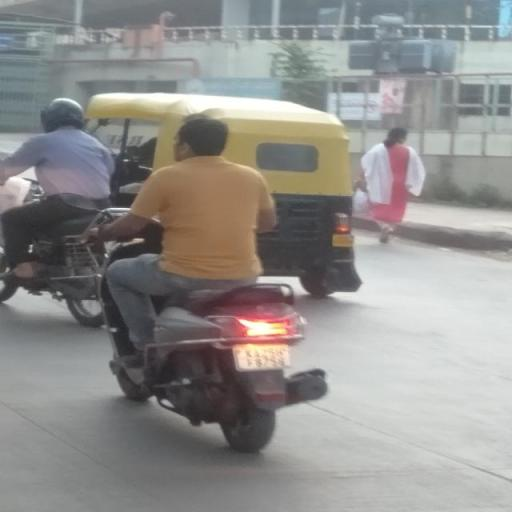bike: (79, 104, 340, 458)
numberplate: (234, 346, 292, 371)
withouthelmet: (178, 118, 228, 158)
